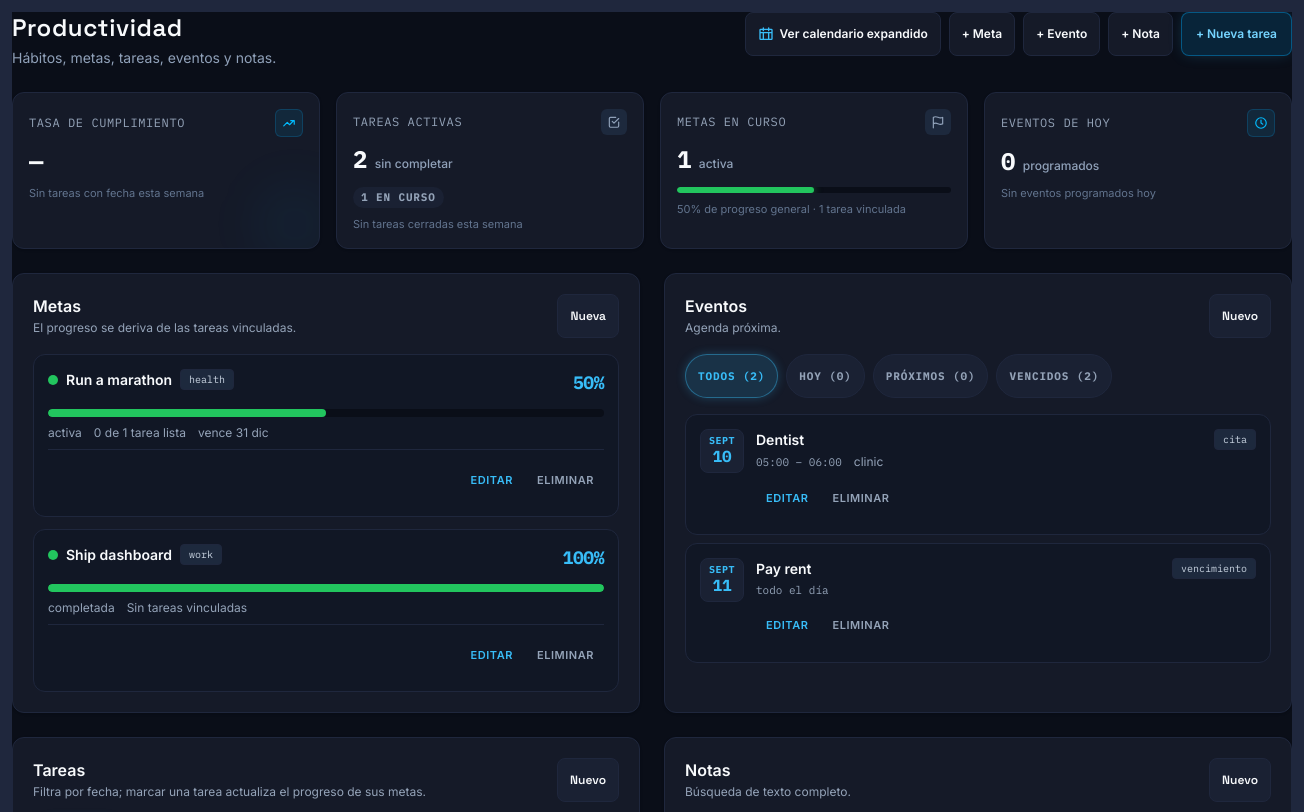
Test case: productivity content cards (T5b) › keeps the header and section Nuevo controls on one aria-synced state machine
Click the button "+ Meta": {"x": 982, "y": 34} [949,12,1015,56]
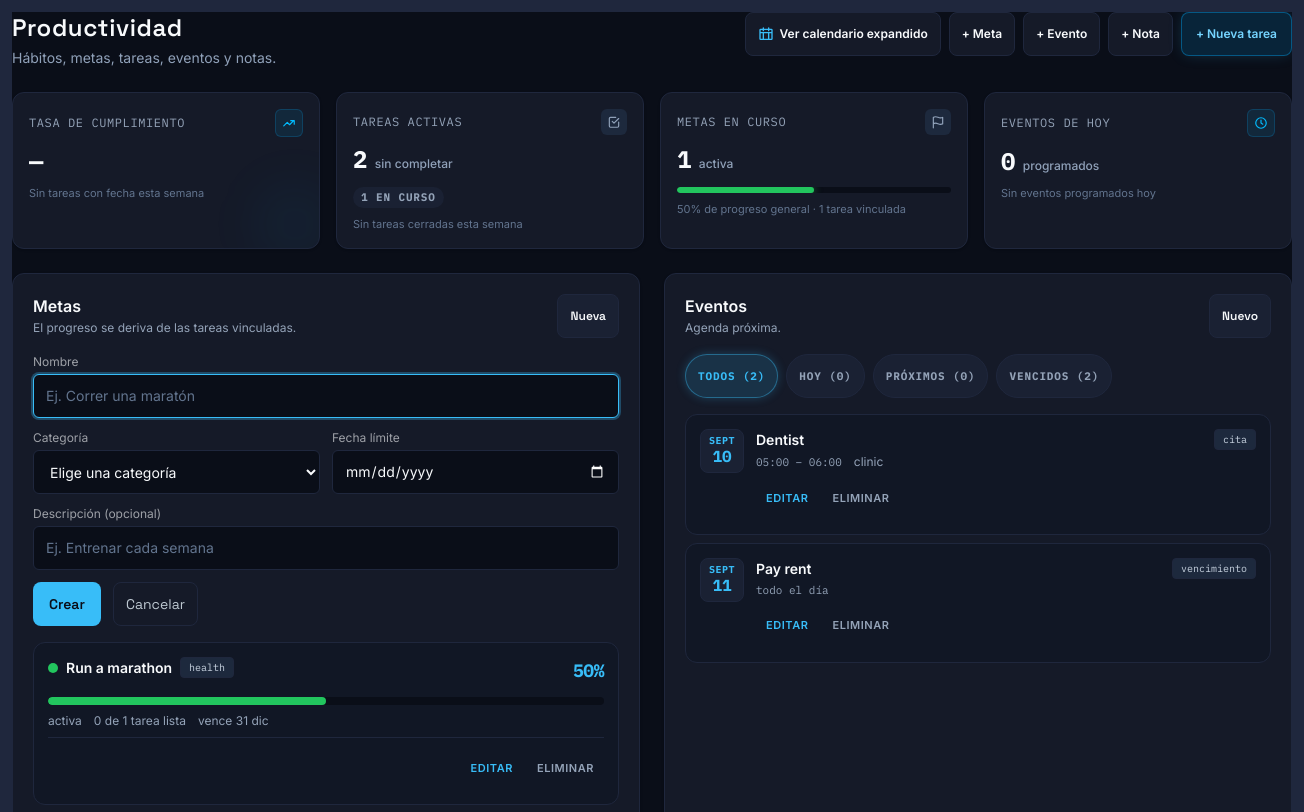
Now the form named "Nueva meta" is shown, box [33,354,619,626]
A second control (this time a section one) closes the first panel.
Click the button with aria-label "Nuevo en Eventos": {"x": 1240, "y": 316} [1209,294,1271,338]
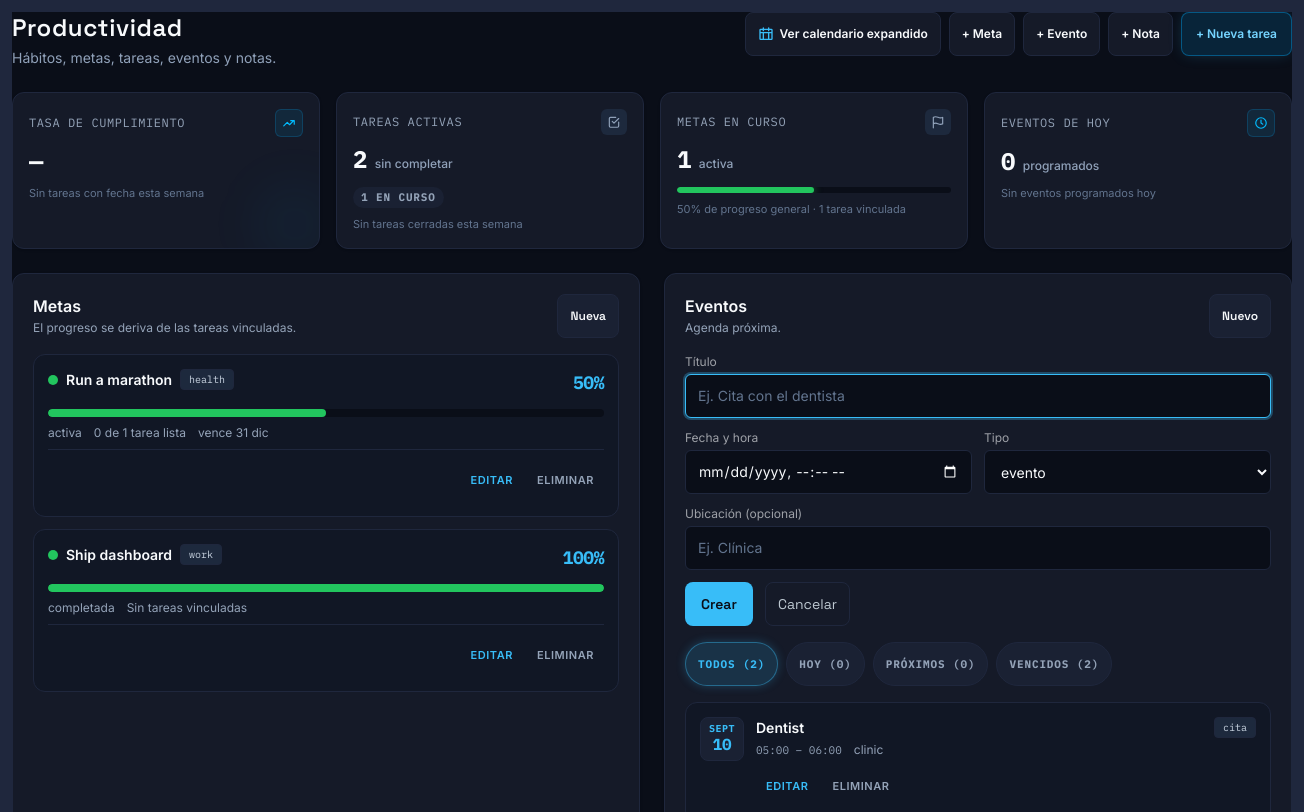
Now the form named "Nuevo evento" is shown, box [685,354,1271,626]
